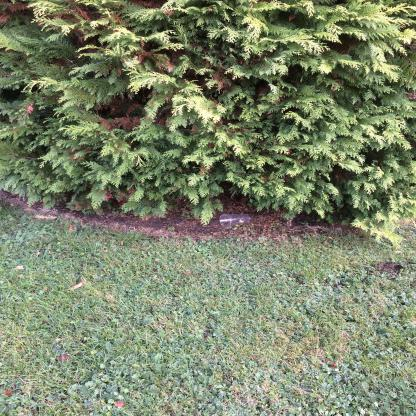plastik: (220, 215, 252, 229)
